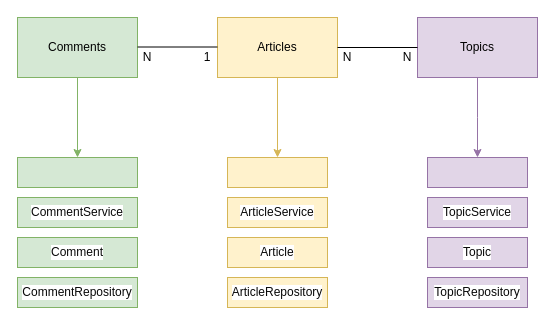
The diagram is 555 pixels wide and 329 high, and some of its shapes have lost their labels. Each missing label, with the centre of its shape:
ArticleController: [277,172]
CommentController: [77,172]
TopicController: [477,172]
